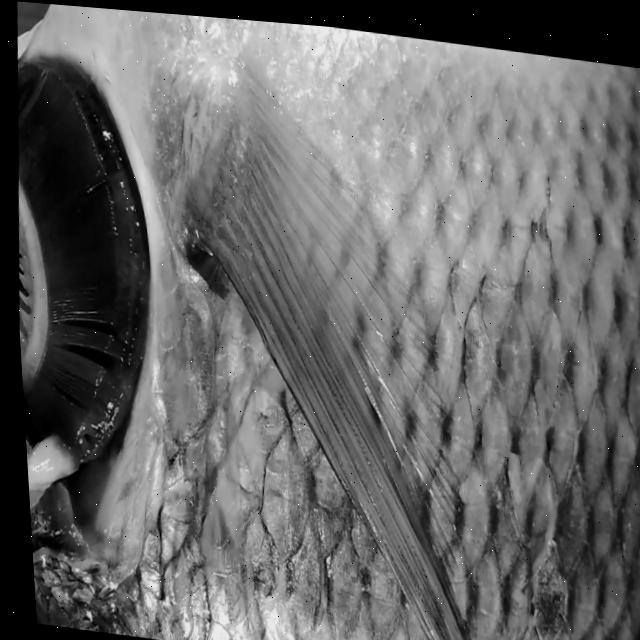Fresh: (118, 8, 640, 640), (1, 15, 182, 571)
